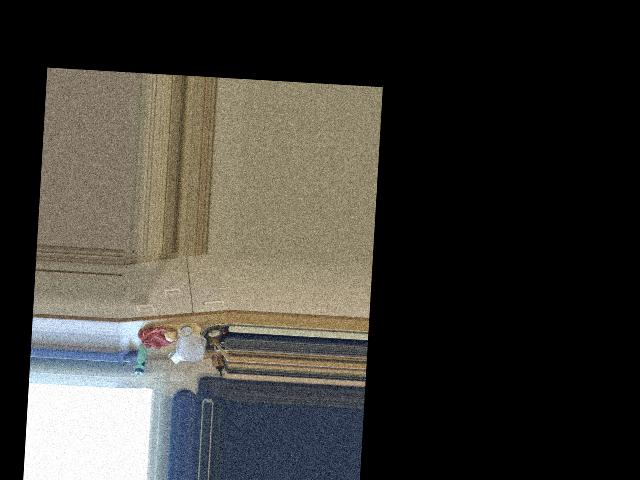onion: (160, 324, 177, 342)
